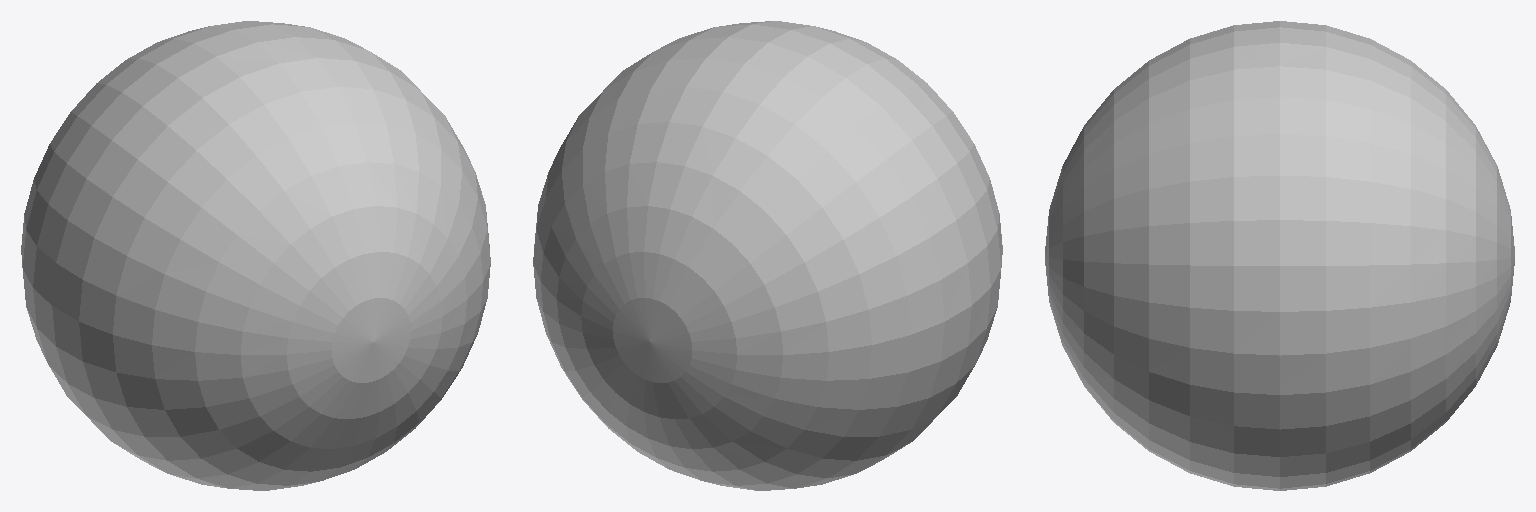
File: drill_tip.OBJ
The picture shows the model from 3 angles: view 1: azimuth 30°, elevation 25°; view 2: azimuth 150°, elevation 25°; view 3: azimuth 270°, elevation 25°; orthographic projection.
Parts seen in each view (by area): view 1: drill_tip_Sphere.002; view 2: drill_tip_Sphere.002; view 3: drill_tip_Sphere.002.
Boxes of the visible parts, x1,y1,x2,y2 form: drill_tip_Sphere.002: [21, 21, 490, 490]; drill_tip_Sphere.002: [533, 21, 1002, 490]; drill_tip_Sphere.002: [1045, 21, 1514, 490].
Bounding box in the file's own units: 0.004 × 0.004 × 0.004.